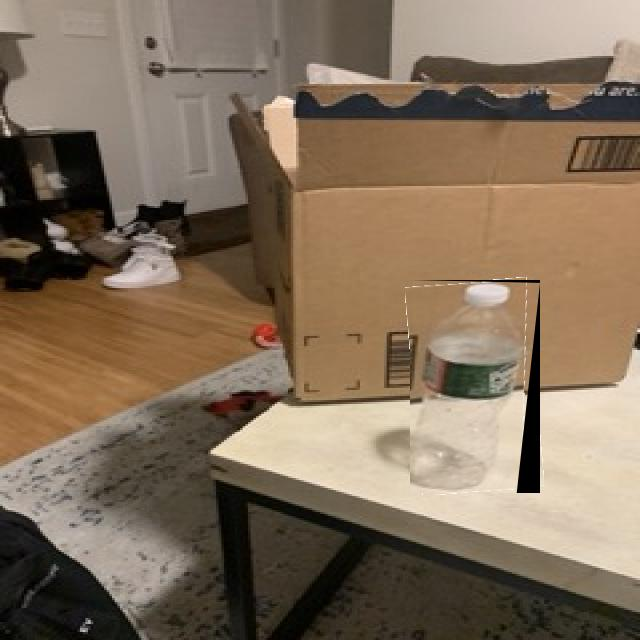water_bottle: (410, 280, 540, 493)
